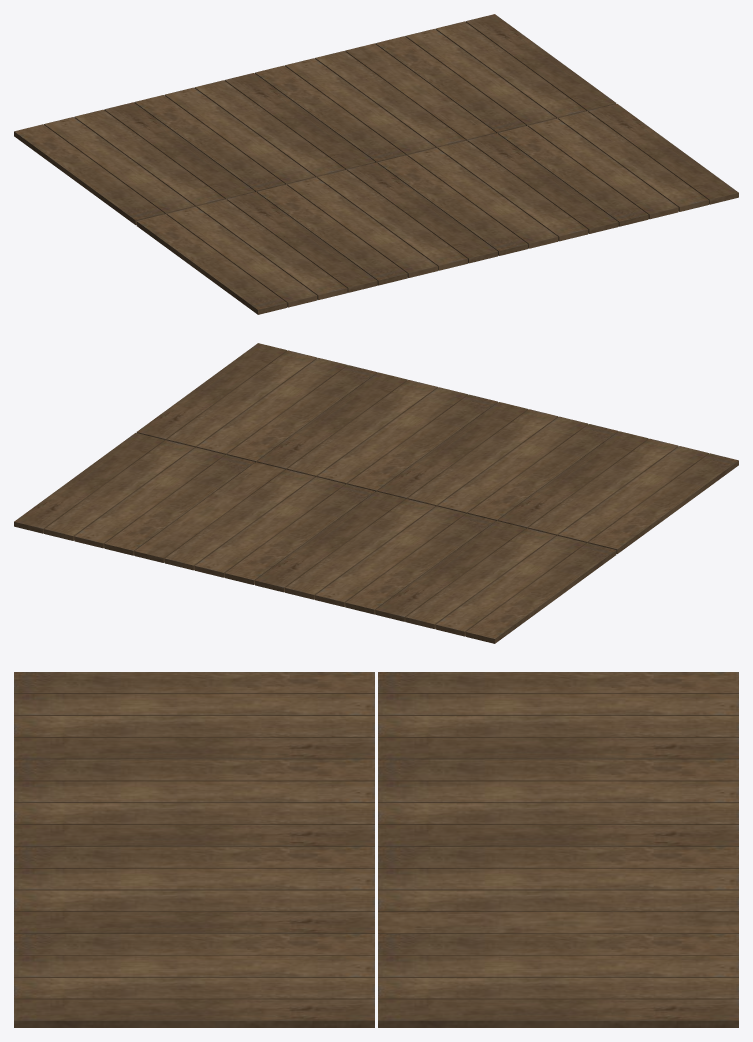
File: SM_floor_plank_01.glb
3 views of the same model, one above another, from view 1: azimuth 30°, elevation 25°; view 2: azimuth 150°, elevation 25°; view 3: azimuth 270°, elevation 25° (orthographic). The views are drawn at different scales.
Parts seen in each view (by area): view 1: SM_floor_plank_01; view 2: SM_floor_plank_01; view 3: SM_floor_plank_01.
Boxes of the visible parts, left/top/right/bottom form: SM_floor_plank_01: left=14, top=14, right=738, bottom=314; SM_floor_plank_01: left=14, top=343, right=738, bottom=643; SM_floor_plank_01: left=14, top=672, right=738, bottom=1027.
Bounding box in the file's own units: 4.19 × 0.0408 × 3.69.
1 material, 1 textured.
